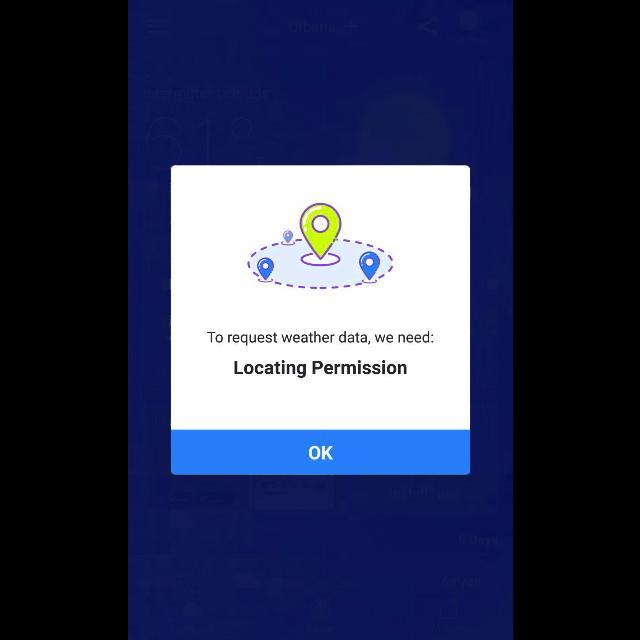image: (246, 204, 394, 290)
panel: (170, 166, 470, 474)
text: (207, 331, 433, 345), (234, 360, 406, 378)
textbutton: (170, 430, 470, 474)
